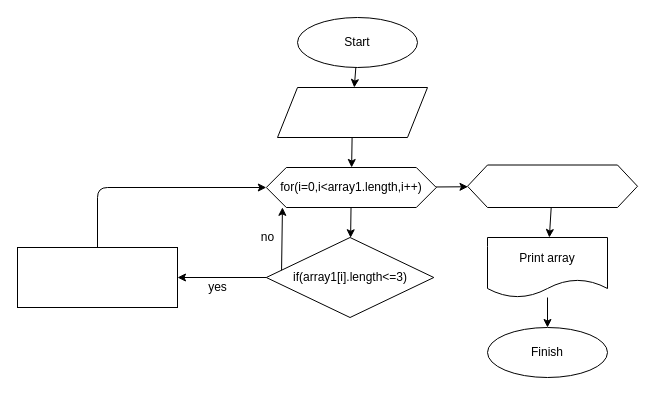
This 655x395 diagram has some shape labels left out. The centre of each missing label's shape, as x and y in pixels:
"array2[count]=array1[i] count++" belongs at [97,277].
"for(i=0,i<array.length,i++)" belongs at [552,186].
"string[] array1 steing[] array2 int count=0" belongs at [352,112].
